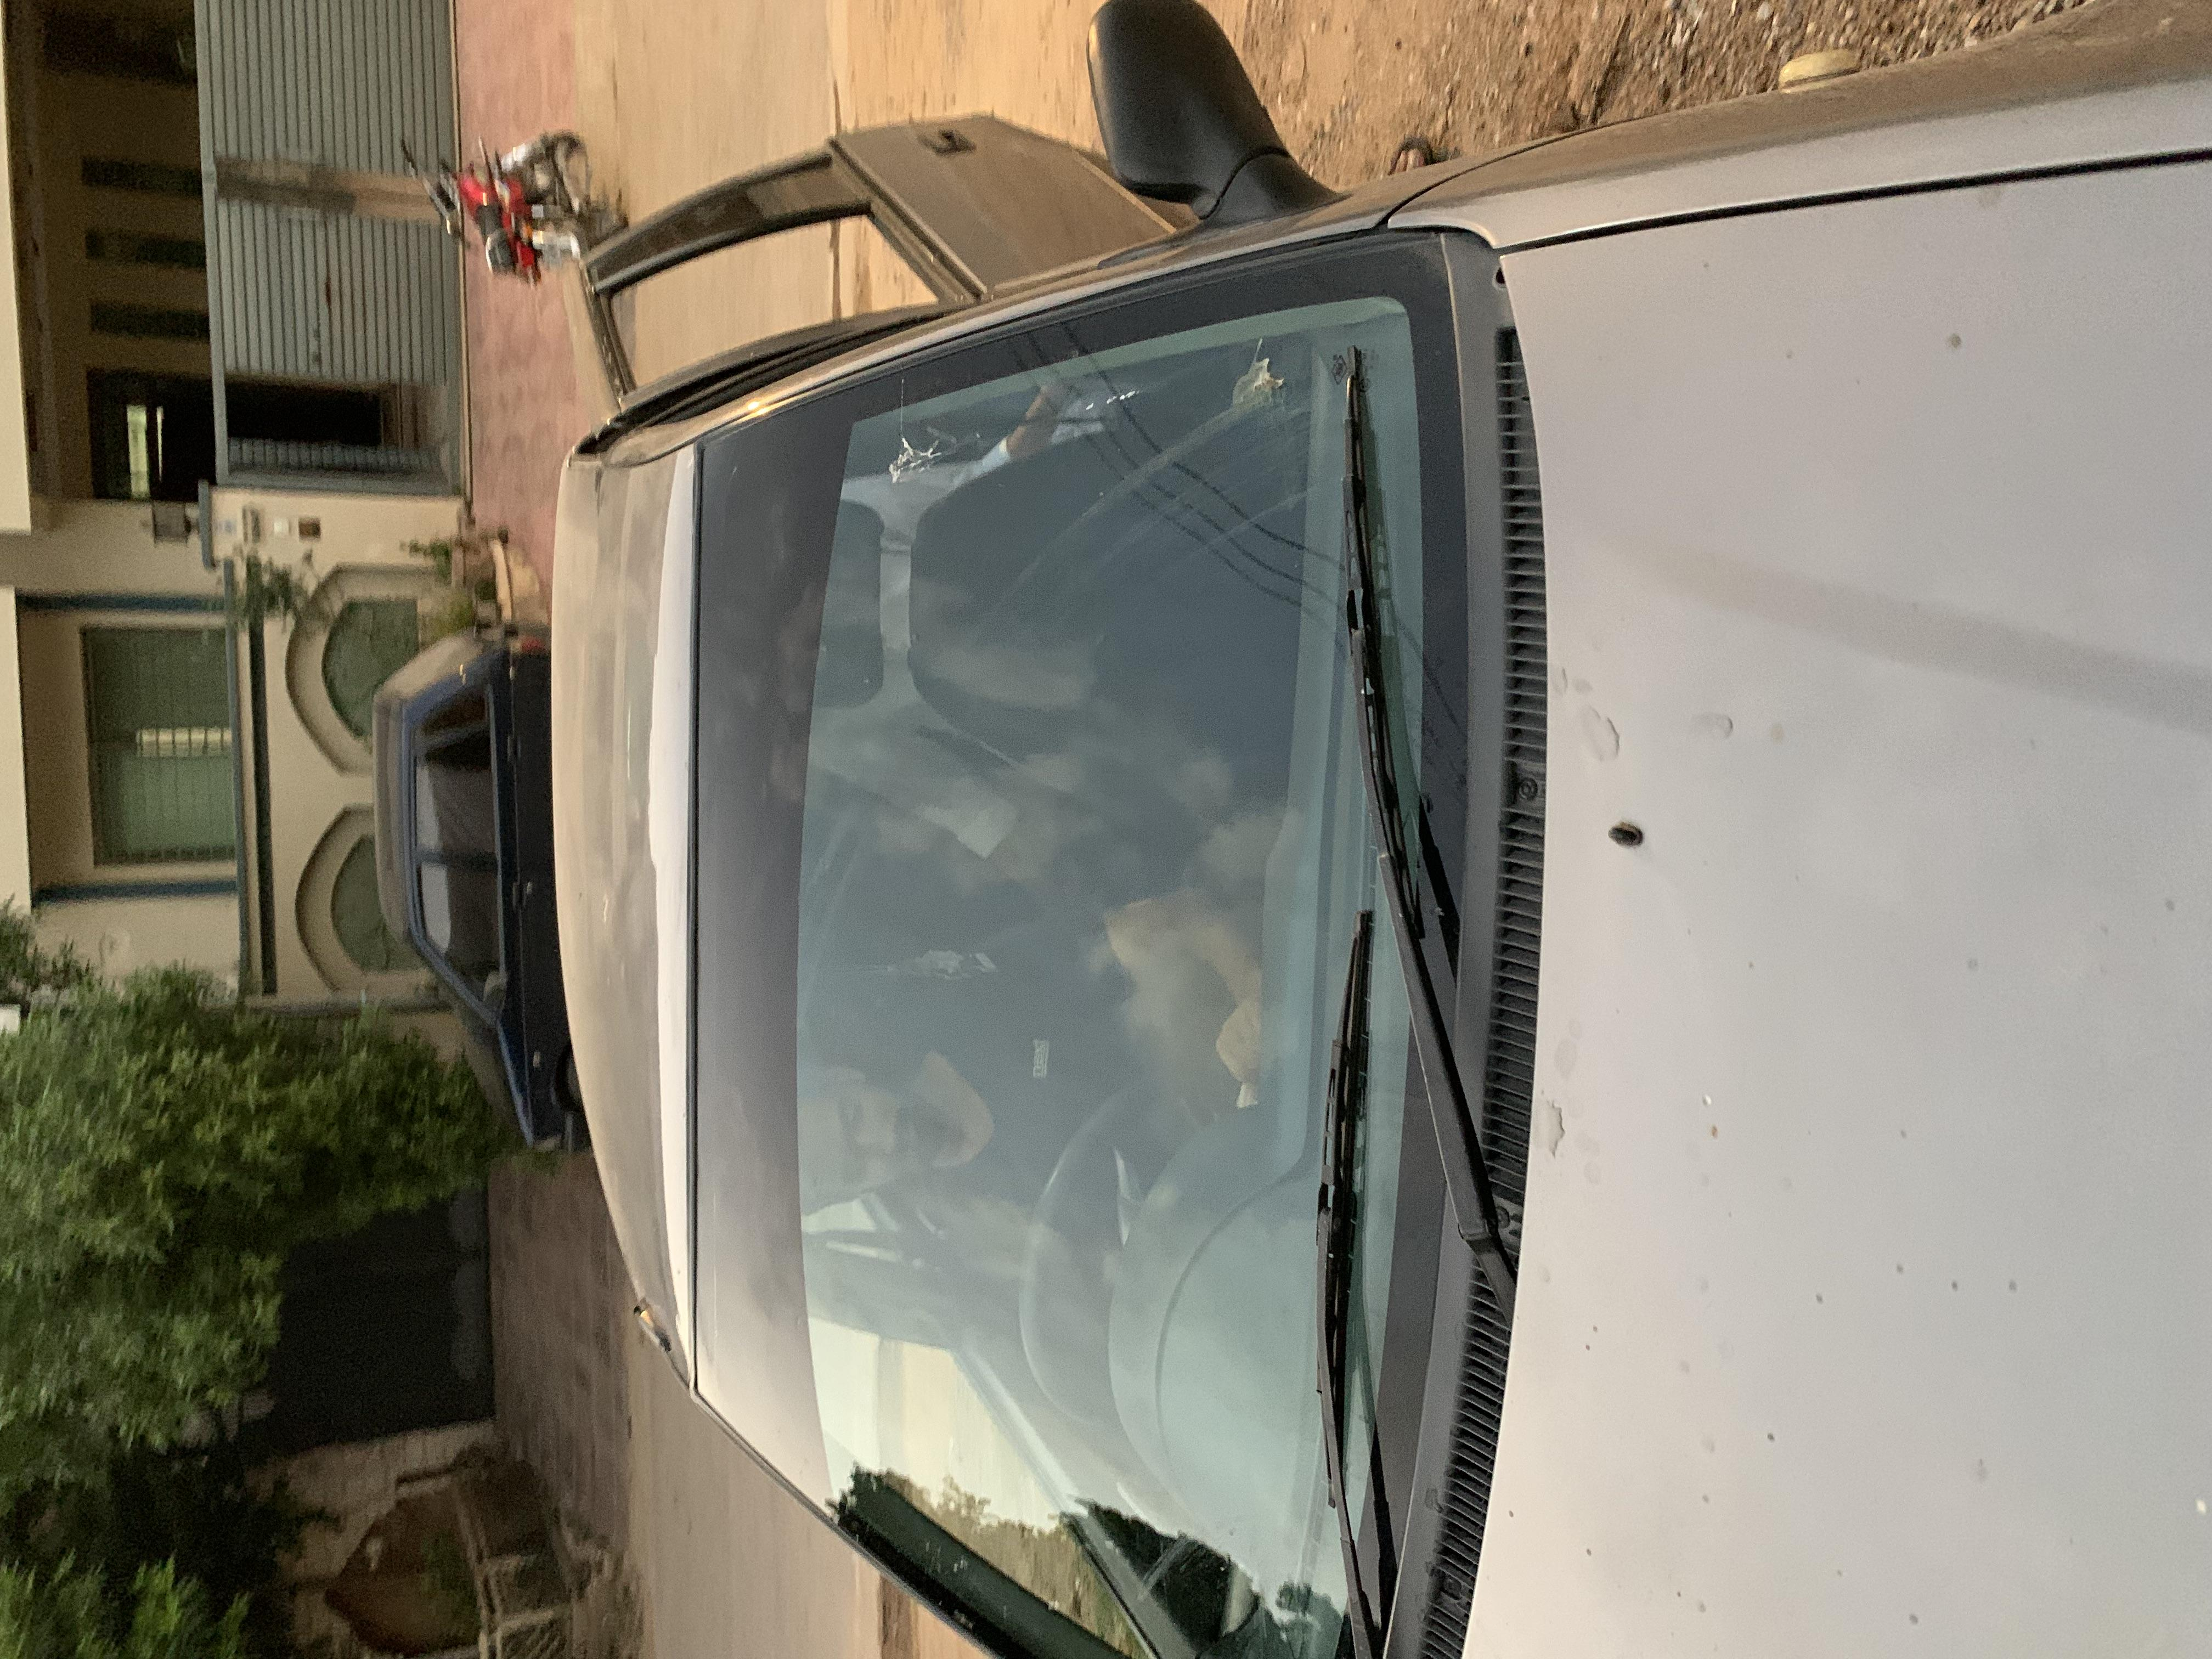windshield: (0, 490, 1925, 1161)
